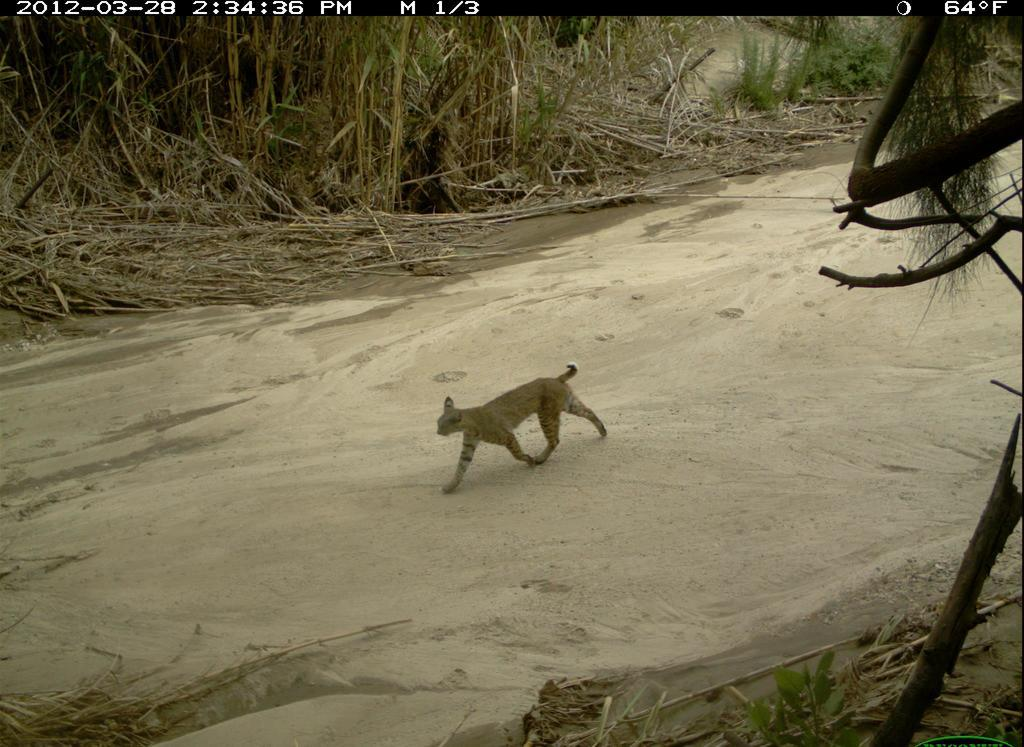bobcat: (436, 356, 610, 496)
